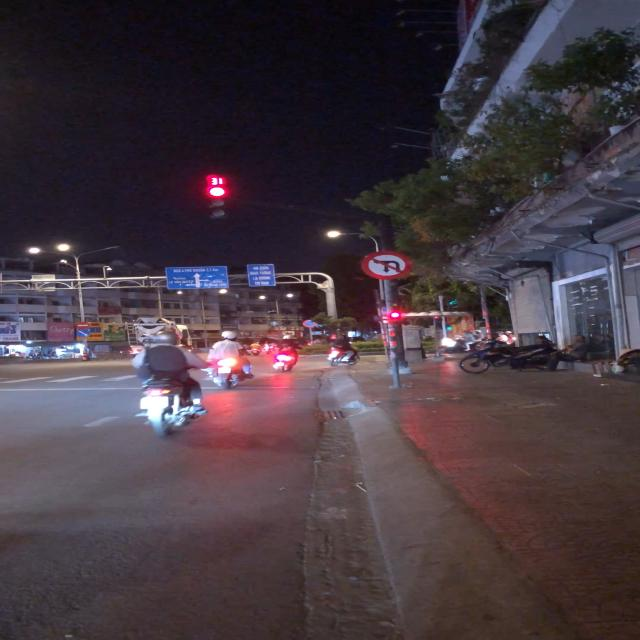Bien bao cam re trai va quay dau: (360, 250, 412, 281)
